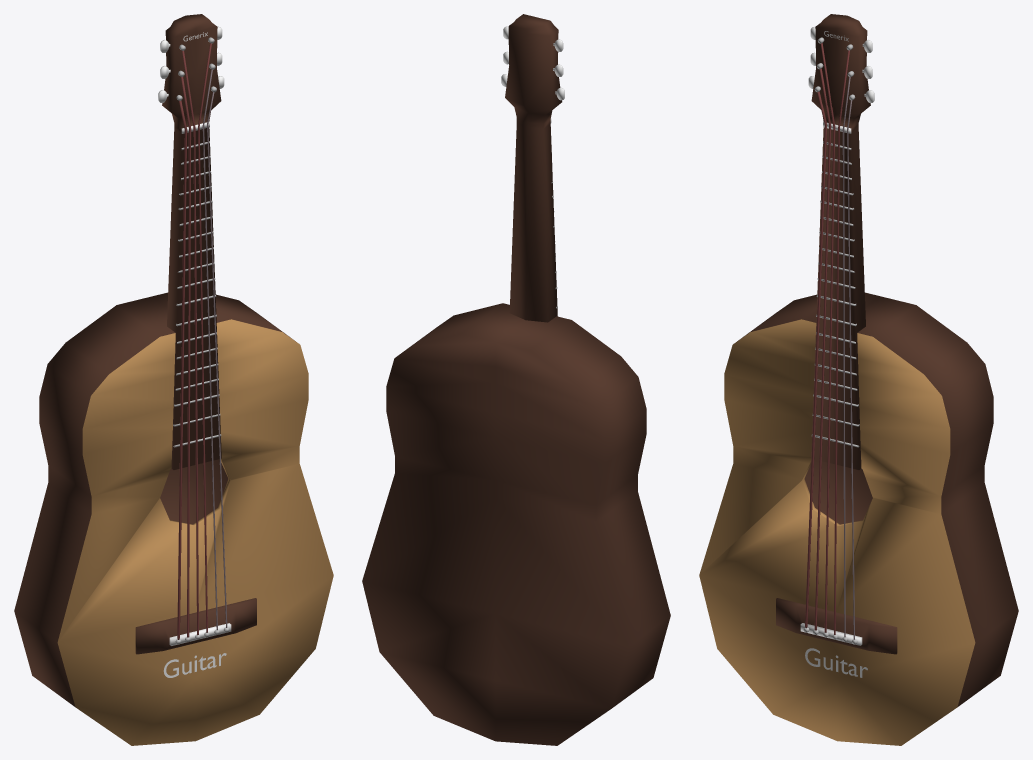
The model's file is Guitar.glb.
The picture shows the model from 3 angles, left to right: view 1: azimuth 30°, elevation 25°; view 2: azimuth 150°, elevation 25°; view 3: azimuth 330°, elevation 25°; orthographic projection. The views are drawn at different scales.
Visible parts, largest first — view 1: Guitar; view 2: Guitar; view 3: Guitar.
Part boxes in pixels (bbox=[...]): Guitar: bbox=[14, 14, 333, 745]; Guitar: bbox=[362, 14, 670, 745]; Guitar: bbox=[699, 14, 1018, 745].
Bounding box in the file's own units: 13.34 × 33.13 × 4.27.
